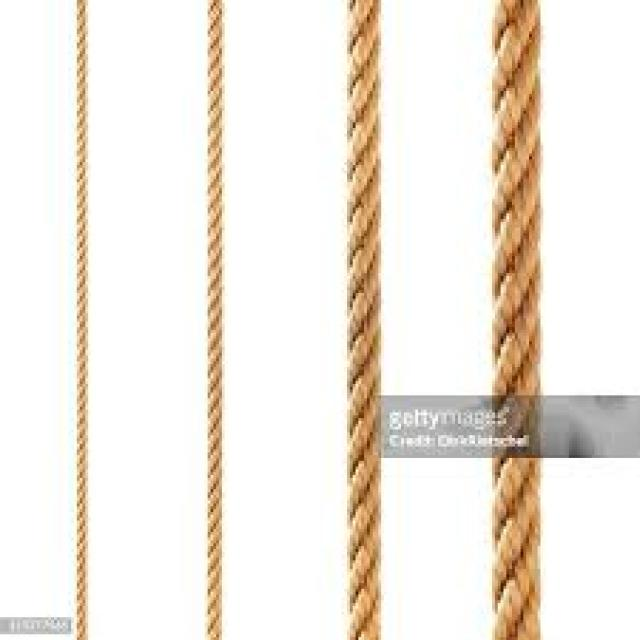Rope: (183, 0, 267, 640)
